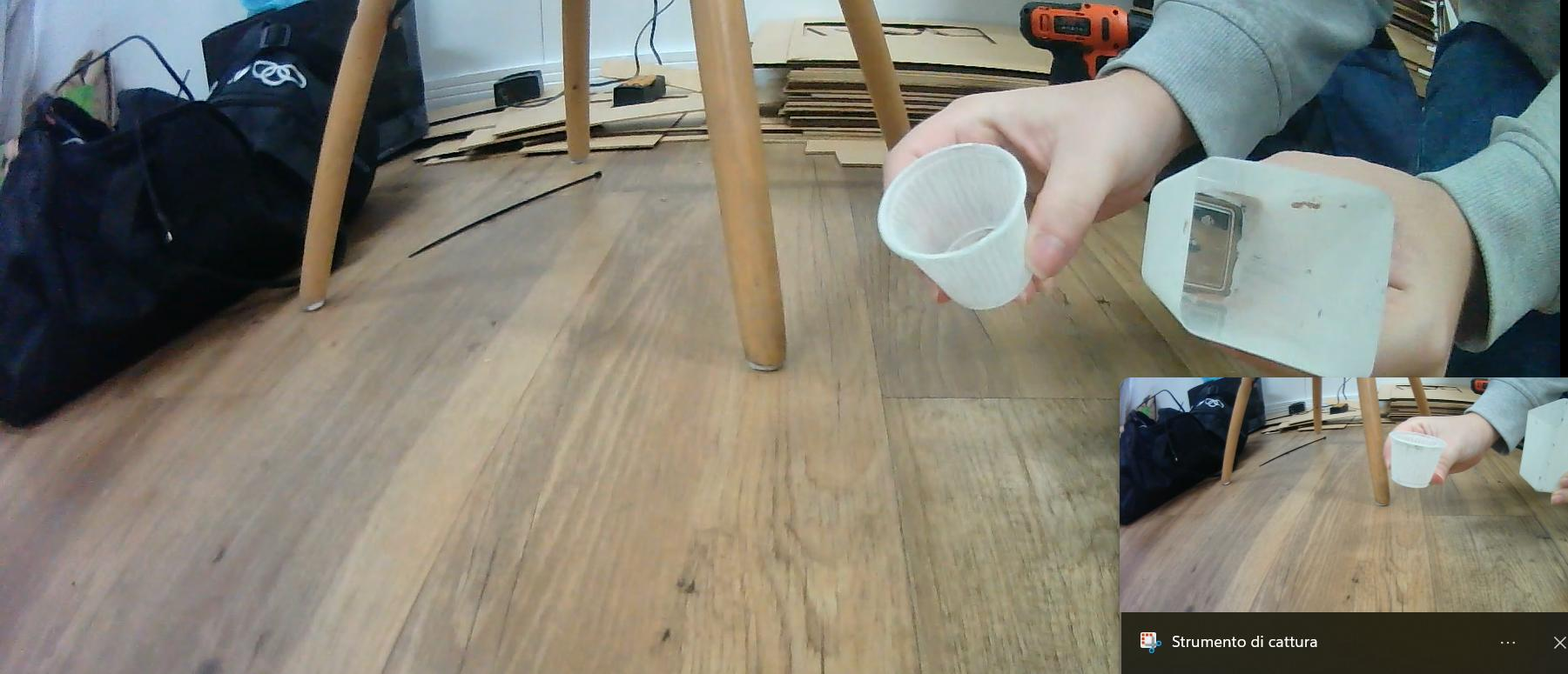erva_daninha: (1141, 156, 1394, 380), (1520, 397, 1568, 495)
planta: (876, 141, 1034, 311), (1386, 431, 1447, 490)
